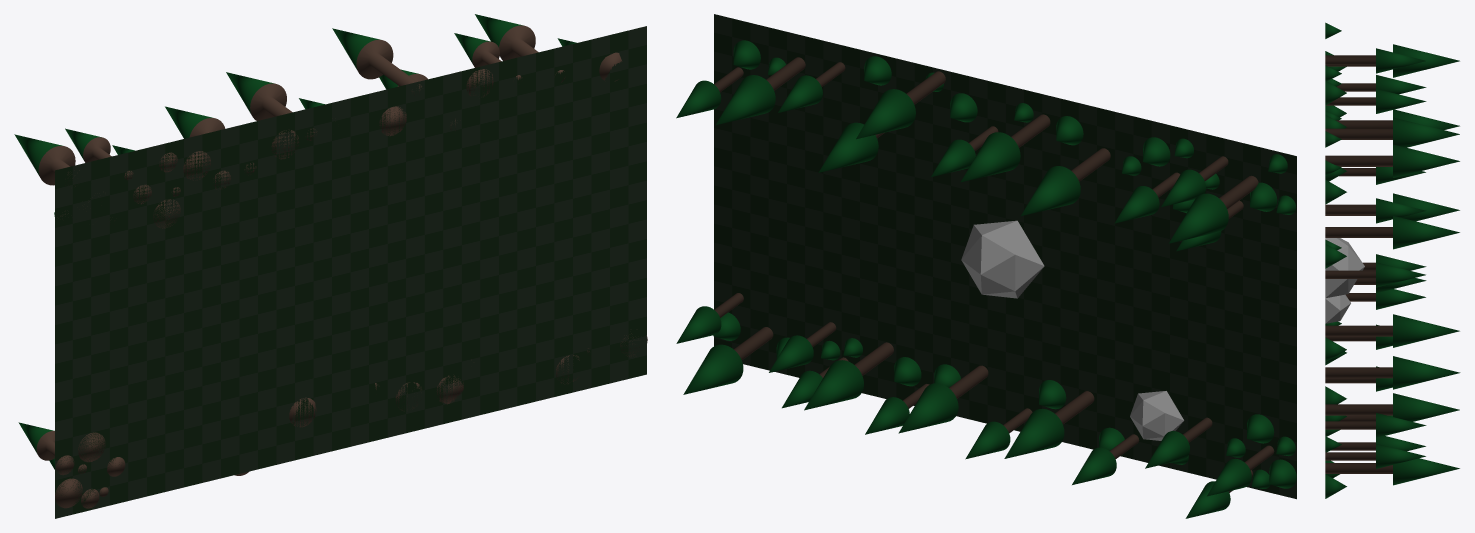
Rendered from forest09.dae.
The picture shows the model from 3 angles, left to right: view 1: azimuth 30°, elevation 25°; view 2: azimuth 150°, elevation 25°; view 3: azimuth 270°, elevation 25°; orthographic projection. The views are drawn at different scales.
Parts seen in each view (by area): view 1: Plane.031, Cone.2080, Cone.2087, Cone.2079, Cone.2099, Cone.2089, Cone.2109, Cone.2107, Cone.2095; view 2: Plane.031, Icosphere.048, Cone.2102, Cone.2069, Cone.2086, Cone.2073, Cone.2079, Cone.2080, Cone.2087, Cone.2089, Cone.2099, Icosphere.049 (+15 smaller); view 3: Cone.2086, Cone.2102, Cone.2080, Cone.2079, Cone.2073, Cone.2087, Cone.2069, Icosphere.048, Cone.2064, Cone.2062, Cone.2109, Cone.2072 (+22 smaller).
Boxes of the visible parts, left/top/right/bottom form: Plane.031: left=55, top=26, right=646, bottom=518; Cone.2080: left=332, top=28, right=421, bottom=95; Cone.2087: left=226, top=72, right=317, bottom=140; Cone.2079: left=475, top=14, right=565, bottom=82; Cone.2099: left=14, top=134, right=75, bottom=185; Cone.2089: left=165, top=106, right=256, bottom=175; Cone.2109: left=65, top=128, right=133, bottom=180; Cone.2107: left=454, top=33, right=522, bottom=81; Cone.2095: left=18, top=422, right=86, bottom=473; Plane.031: left=714, top=14, right=1296, bottom=499; Icosphere.048: left=961, top=220, right=1044, bottom=298; Cone.2102: left=1004, top=391, right=1094, bottom=458; Cone.2069: left=683, top=327, right=773, bottom=394; Cone.2086: left=898, top=365, right=988, bottom=433; Cone.2073: left=804, top=342, right=893, bottom=410; Cone.2079: left=716, top=57, right=805, bottom=124; Cone.2080: left=856, top=71, right=945, bottom=139; Cone.2087: left=961, top=114, right=1050, bottom=182; Cone.2089: left=1021, top=148, right=1110, bottom=215; Cone.2099: left=1169, top=175, right=1258, bottom=243; Icosphere.049: left=1130, top=391, right=1183, bottom=440; Cone.2086: left=1325, top=356, right=1460, bottom=389; Cone.2102: left=1325, top=314, right=1459, bottom=347; Cone.2080: left=1325, top=144, right=1459, bottom=177; Cone.2079: left=1325, top=215, right=1459, bottom=249; Cone.2073: left=1325, top=393, right=1459, bottom=421; Cone.2087: left=1325, top=117, right=1459, bottom=147; Cone.2069: left=1325, top=458, right=1459, bottom=485; Icosphere.048: left=1325, top=238, right=1364, bottom=298; Cone.2064: left=1325, top=443, right=1425, bottom=468; Cone.2062: left=1325, top=262, right=1425, bottom=287; Cone.2109: left=1325, top=48, right=1425, bottom=73; Cone.2072: left=1325, top=413, right=1426, bottom=437.
Size of the model in its own units: 64.07 by 16 by 37.33.
